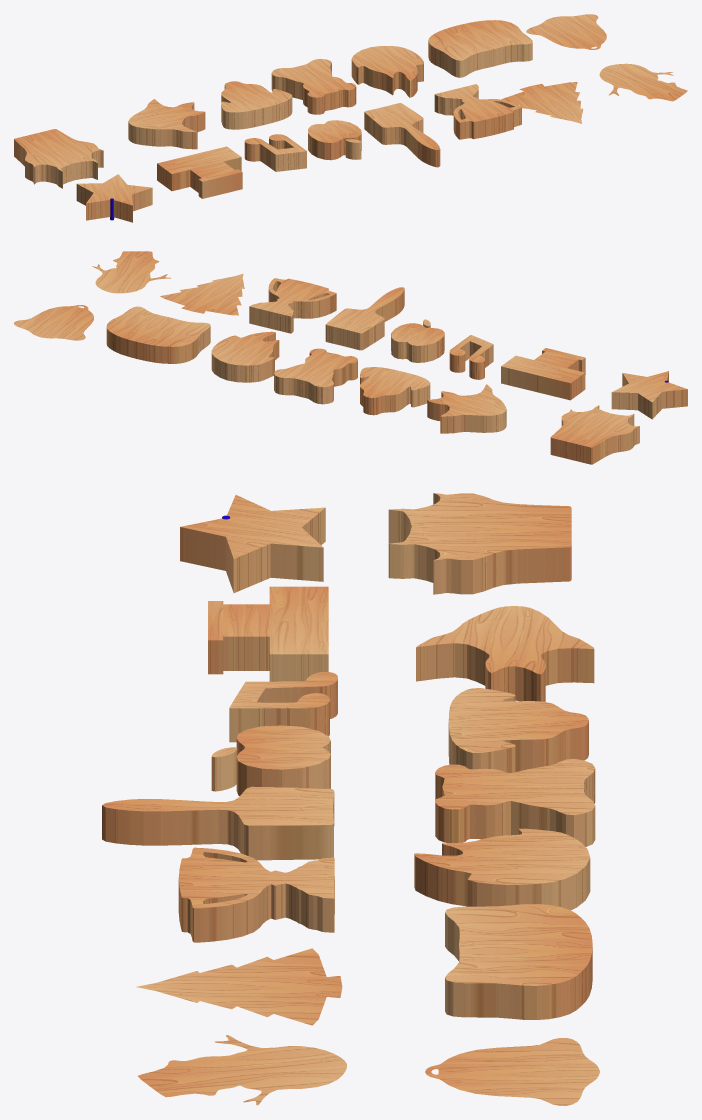
File: Block liberate_block new.fbx
3 renders of one model, top to bottom at view 1: azimuth 30°, elevation 25°; view 2: azimuth 150°, elevation 25°; view 3: azimuth 270°, elevation 25°, orthographic. The views are drawn at different scales.
Parts seen in each view (by area): view 1: Meo.007, toa nha, Sao, toa nha.003, Sao.001, Tao, Co.001, Ca.006, Gau.004, Meo.002, Chan meo.006, Chan meo.005 (+45 smaller); view 2: toa nha, Lua.004, Sao.001, Cup.013, Chan meo.007, Meo.004, Meo.007, Gau.004, Meo.006, Chan meo.006, Gau.007, Sao.003 (+45 smaller); view 3: Meo.007, Sao, Lua.004, Chan meo.005, Co.004, Chan meo.007, Lua.002, toa nha.002, toa nha, Cup.006, Sao.003, Meo.005 (+61 smaller).
Boxes of the visible parts, x1=… form: Meo.007: x1=459, y1=25, x2=522, y2=70; toa nha: x1=157, y1=151, x2=222, y2=191; Sao: x1=113, y1=185, x2=152, y2=222; toa nha.003: x1=198, y1=169, x2=242, y2=198; Sao.001: x1=76, y1=183, x2=110, y2=220; Tao: x1=311, y1=130, x2=343, y2=160; Co.001: x1=367, y1=114, x2=404, y2=144; Ca.006: x1=147, y1=114, x2=186, y2=146; Gau.004: x1=271, y1=67, x2=303, y2=99; Meo.002: x1=443, y1=50, x2=475, y2=77; Chan meo.006: x1=24, y1=148, x2=56, y2=183; Chan meo.005: x1=74, y1=141, x2=97, y2=179; toa nha: x1=519, y1=360, x2=585, y2=400; Lua.004: x1=211, y1=339, x2=274, y2=382; Sao.001: x1=638, y1=382, x2=687, y2=419; Cup.013: x1=249, y1=302, x2=293, y2=333; Chan meo.007: x1=550, y1=427, x2=600, y2=460; Meo.004: x1=120, y1=334, x2=170, y2=362; Meo.007: x1=109, y1=313, x2=187, y2=333; Gau.004: x1=305, y1=370, x2=333, y2=404; Meo.006: x1=155, y1=342, x2=193, y2=363; Chan meo.006: x1=603, y1=418, x2=634, y2=455; Gau.007: x1=274, y1=369, x2=308, y2=397; Sao.003: x1=611, y1=382, x2=652, y2=410; Meo.007: x1=459, y1=928, x2=536, y2=1019; Sao: x1=180, y1=518, x2=270, y2=592; Lua.004: x1=492, y1=828, x2=590, y2=910; Chan meo.005: x1=404, y1=527, x2=497, y2=594; Co.004: x1=143, y1=799, x2=227, y2=845; Chan meo.007: x1=514, y1=510, x2=571, y2=583; Lua.002: x1=414, y1=853, x2=495, y2=906; toa nha.002: x1=223, y1=604, x2=269, y2=670; toa nha: x1=269, y1=586, x2=328, y2=636; Cup.006: x1=190, y1=889, x2=263, y2=942; Sao.003: x1=243, y1=527, x2=323, y2=581; Meo.005: x1=527, y1=962, x2=589, y2=1019.
Size of the model in its own units: 20.69 by 0.6772 by 7.53.
Materials: 2 (1 with a texture image).
